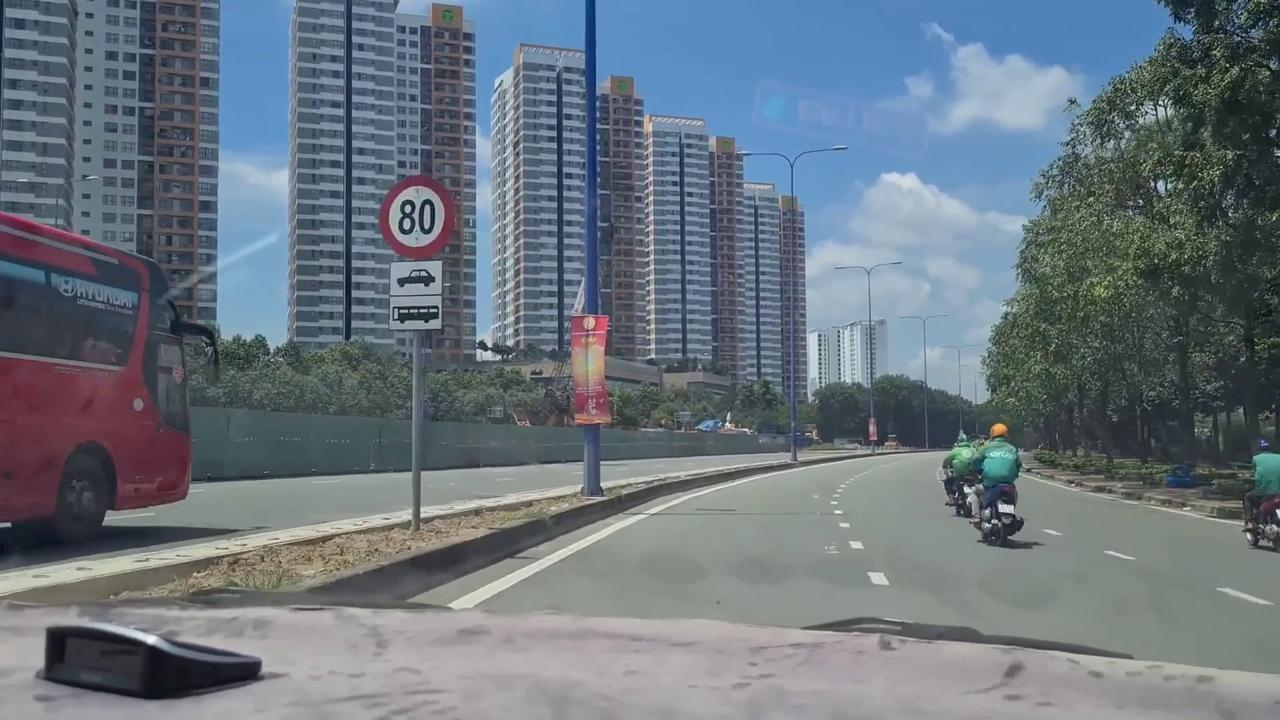Biển phụ: (386, 260, 444, 330)
Giới hạn tốc độ 80Km/h: (378, 173, 457, 261)
